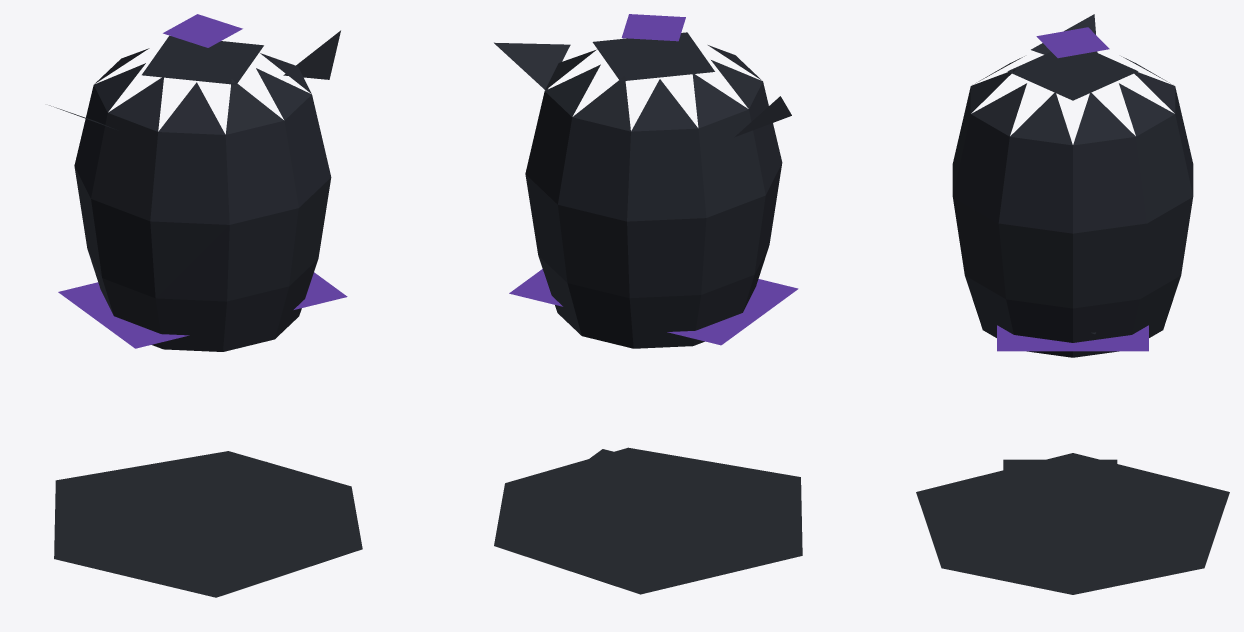
The model's file is mind-shielding-suit.lod.glb.
The picture shows the model from 3 angles, left to right: view 1: azimuth 30°, elevation 25°; view 2: azimuth 150°, elevation 25°; view 3: azimuth 270°, elevation 25°; orthographic projection. The views are drawn at different scales.
Visible parts, largest first — view 1: m; view 2: m; view 3: m.
Part boxes in pixels (box(x1,y1,x2,y2)): m: box(49, 14, 362, 597); m: box(494, 14, 802, 594); m: box(916, 14, 1229, 594).
Bounding box in the file's own units: 0.3138 × 0.385 × 0.2173.
